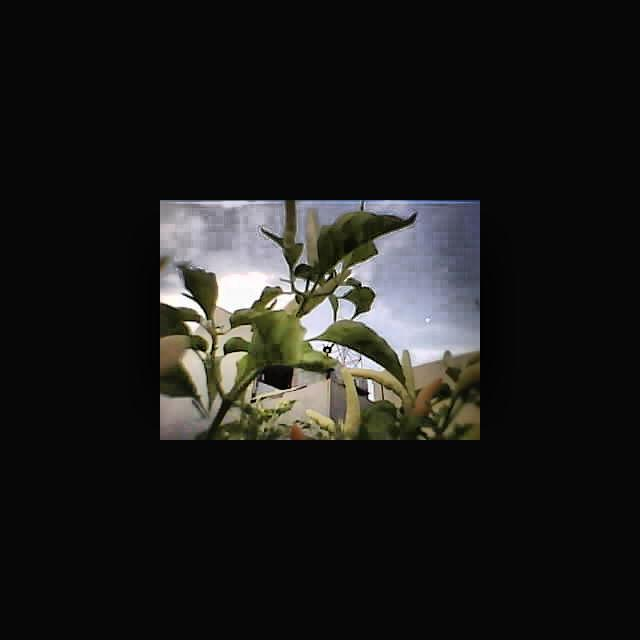Cabai: (412, 376, 446, 411)
